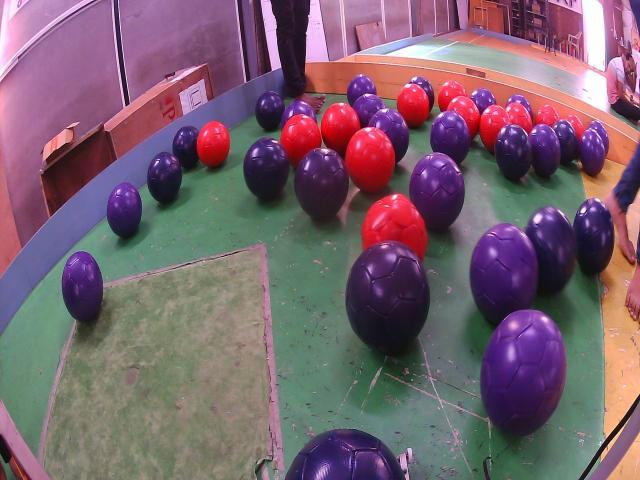jambhalya: (480, 310, 566, 437), (470, 223, 539, 325), (410, 153, 465, 231), (61, 252, 104, 320), (369, 108, 410, 163), (430, 110, 471, 163), (106, 183, 142, 238), (529, 123, 561, 177), (579, 128, 605, 176), (352, 93, 386, 128), (281, 100, 318, 128), (346, 73, 376, 107), (589, 120, 609, 154), (470, 88, 496, 114), (506, 95, 534, 118)
kaalyya: (345, 240, 430, 355), (285, 428, 405, 480), (525, 207, 578, 293), (295, 148, 349, 220), (574, 198, 615, 275), (244, 138, 289, 200), (495, 123, 532, 180), (148, 152, 182, 203), (552, 118, 578, 165), (172, 125, 199, 168), (255, 92, 285, 130), (409, 77, 435, 111)
